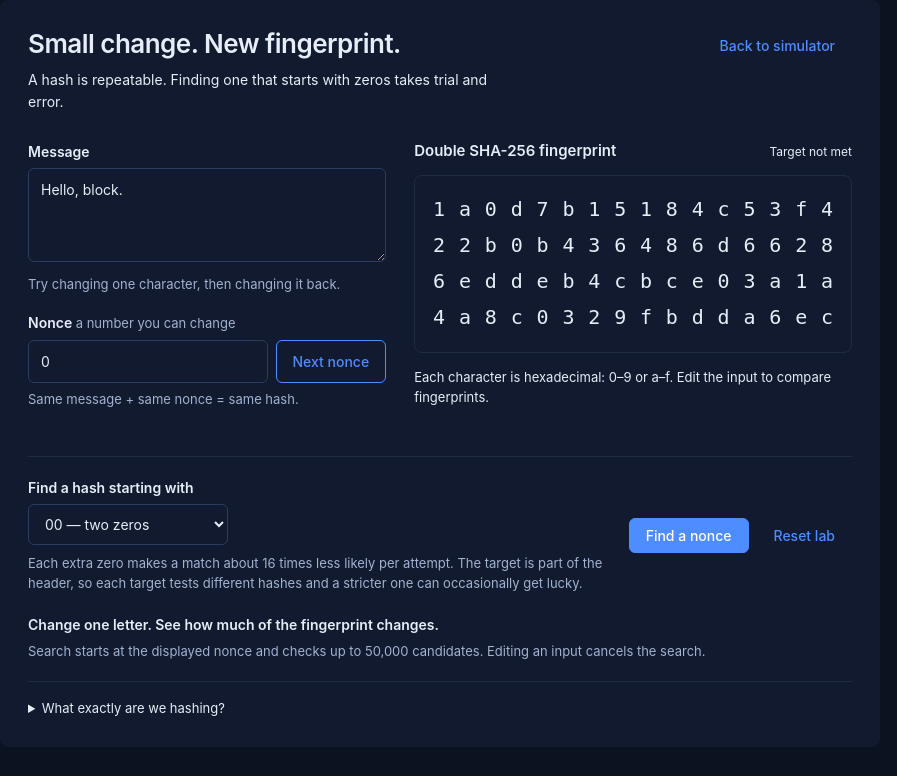
HashLab independent interaction › shows a real match and its exact attempt count
Click the button "Find a nonce".
click(689, 535)  # box 629,518 -> 748,553
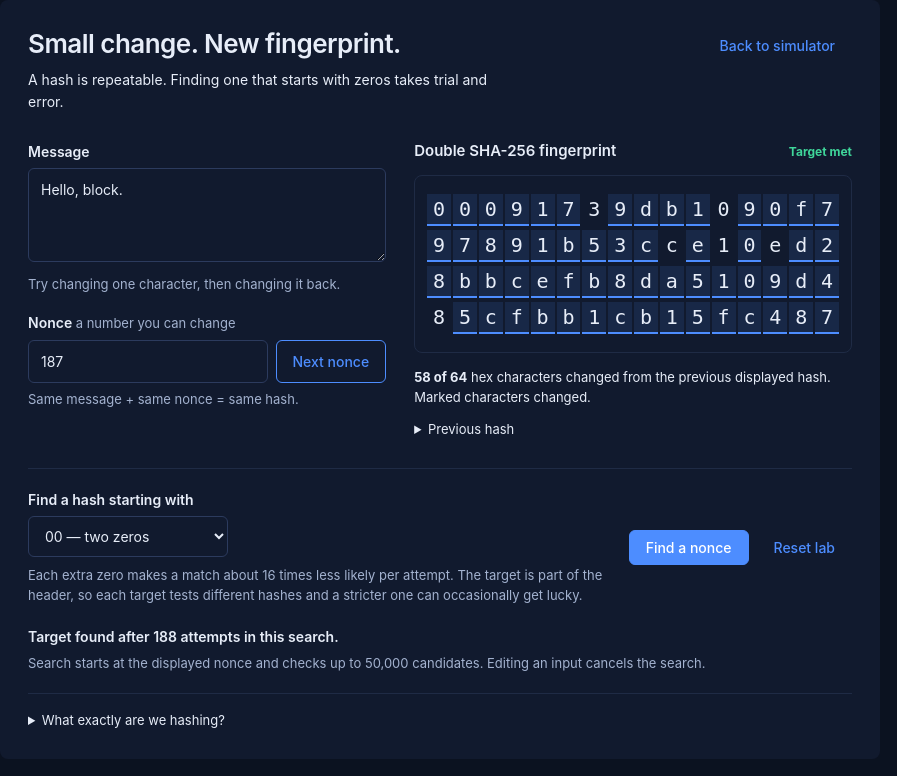
Result: the message shows "188 attempts" at 28,628 -> 339,644
Result: the field labelled "Nonce a number you can change" holds "187" at 28,340 -> 268,384
Result: the text "Target met" is shown at 789,143 -> 852,161
